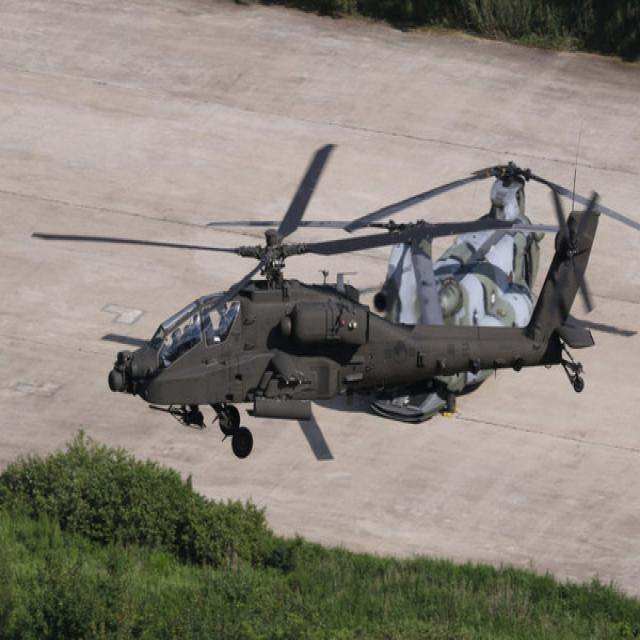Apache: (64, 173, 627, 462)
